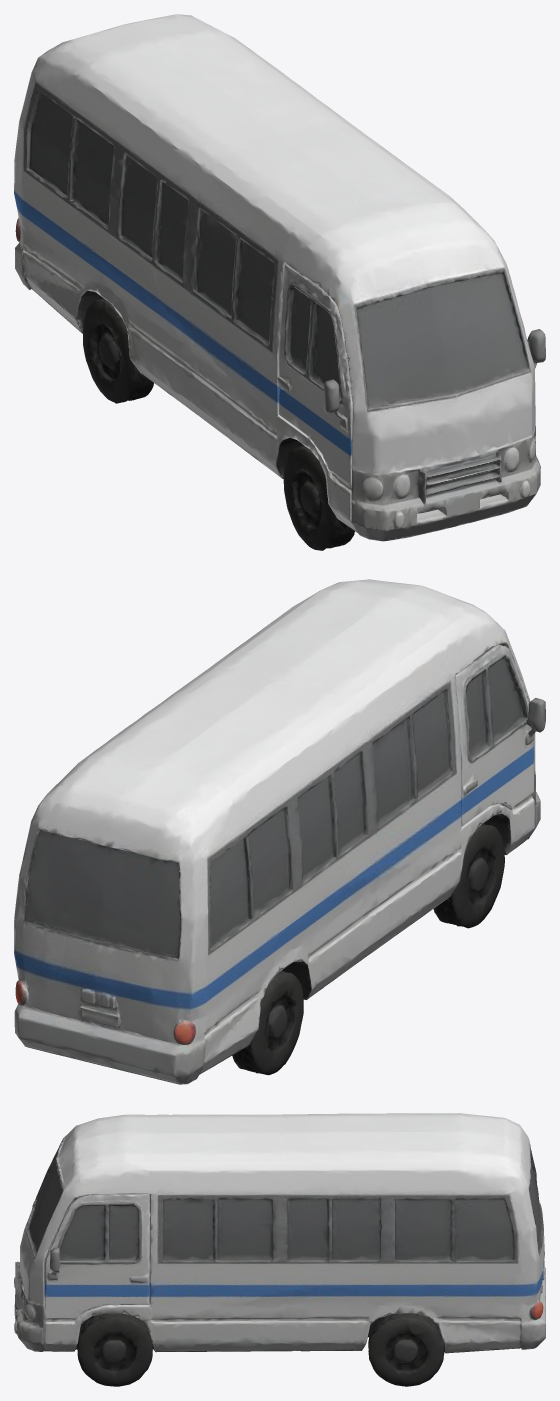
File: onibus_pequeno.glb
The picture shows the model from 3 angles, top to bottom: view 1: azimuth 30°, elevation 25°; view 2: azimuth 150°, elevation 25°; view 3: azimuth 270°, elevation 25°; orthographic projection. The views are drawn at different scales.
Parts seen in each view (by area): view 1: tripo_node_e8295542-5ba7-4b35-bd59-1e4151ae644d; view 2: tripo_node_e8295542-5ba7-4b35-bd59-1e4151ae644d; view 3: tripo_node_e8295542-5ba7-4b35-bd59-1e4151ae644d.
Part boxes in pixels (x1,y1,x2,y2): tripo_node_e8295542-5ba7-4b35-bd59-1e4151ae644d: [14, 14, 545, 550]; tripo_node_e8295542-5ba7-4b35-bd59-1e4151ae644d: [14, 579, 545, 1084]; tripo_node_e8295542-5ba7-4b35-bd59-1e4151ae644d: [14, 1113, 545, 1386].
Size of the model in its own units: 2.4 by 3.27 by 7.
Materials: 1 (1 with a texture image).
